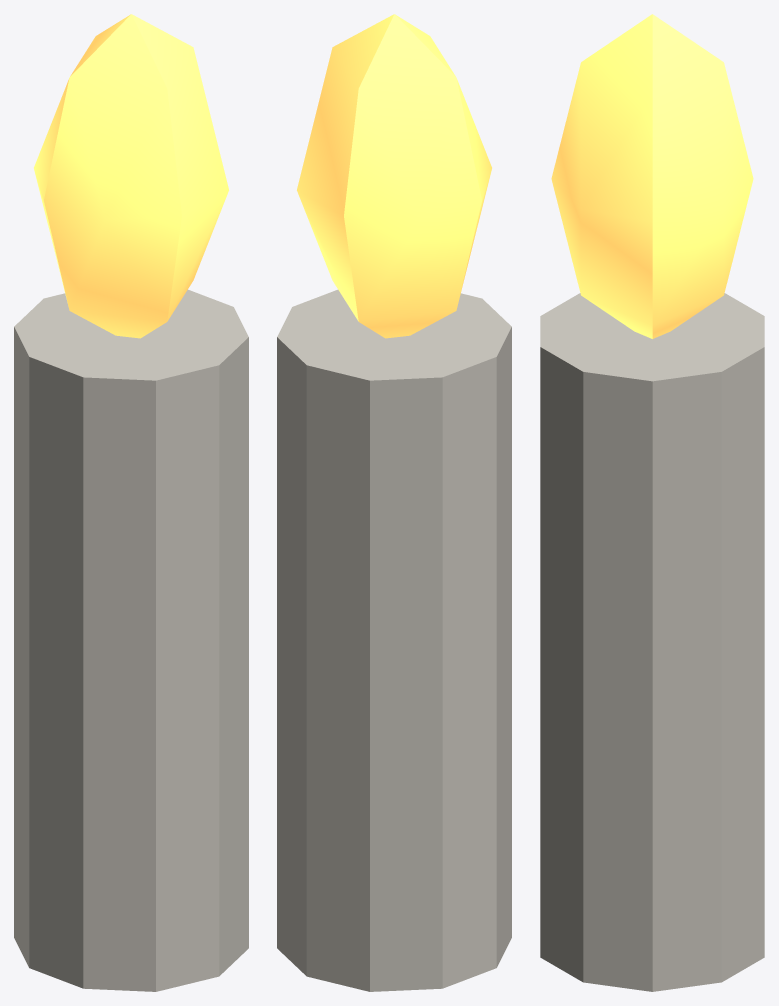
Rendered from dun_candle.glb.
3 renders of one model, left to right at view 1: azimuth 30°, elevation 25°; view 2: azimuth 150°, elevation 25°; view 3: azimuth 270°, elevation 25°, orthographic.
Parts seen in each view (by area): view 1: dun_candle_wax_0, dun_candle_ember_0; view 2: dun_candle_wax_0, dun_candle_ember_0; view 3: dun_candle_wax_0, dun_candle_ember_0.
Part boxes in pixels (bbox=[...]): dun_candle_wax_0: bbox=[14, 289, 248, 991]; dun_candle_ember_0: bbox=[34, 14, 228, 338]; dun_candle_wax_0: bbox=[277, 289, 511, 991]; dun_candle_ember_0: bbox=[297, 14, 491, 338]; dun_candle_wax_0: bbox=[540, 293, 764, 991]; dun_candle_ember_0: bbox=[551, 14, 753, 338].
Size of the model in its own units: 0.07 by 0.304 by 0.0666.
